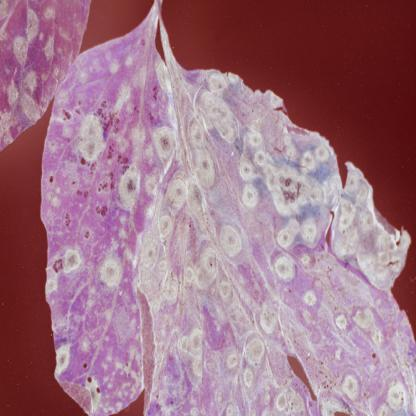Tomato Septoria leaf spot: (36, 19, 416, 415)
